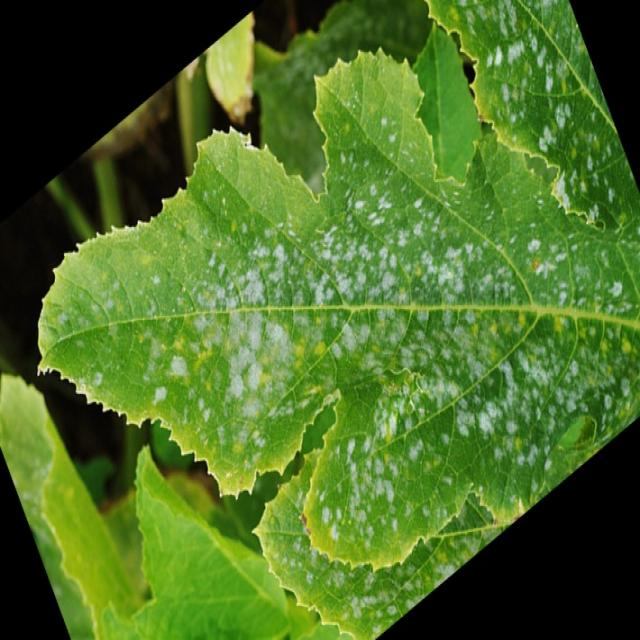Powdery Mildew: (162, 168, 628, 564)
